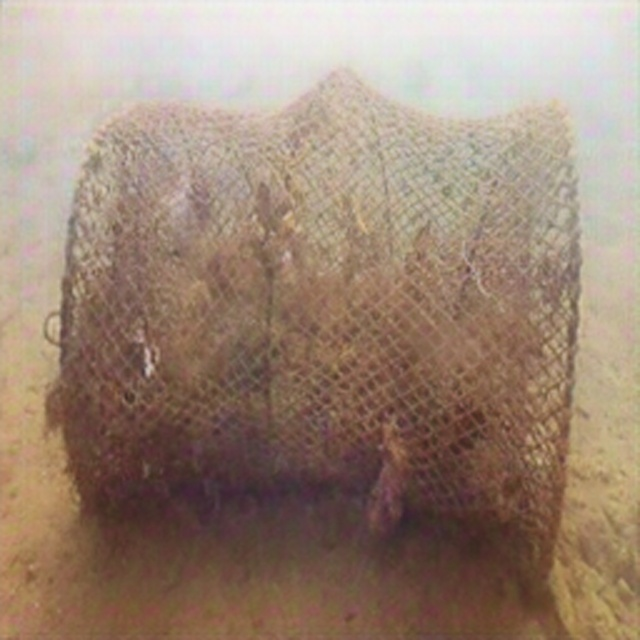mine: (58, 62, 580, 602)
